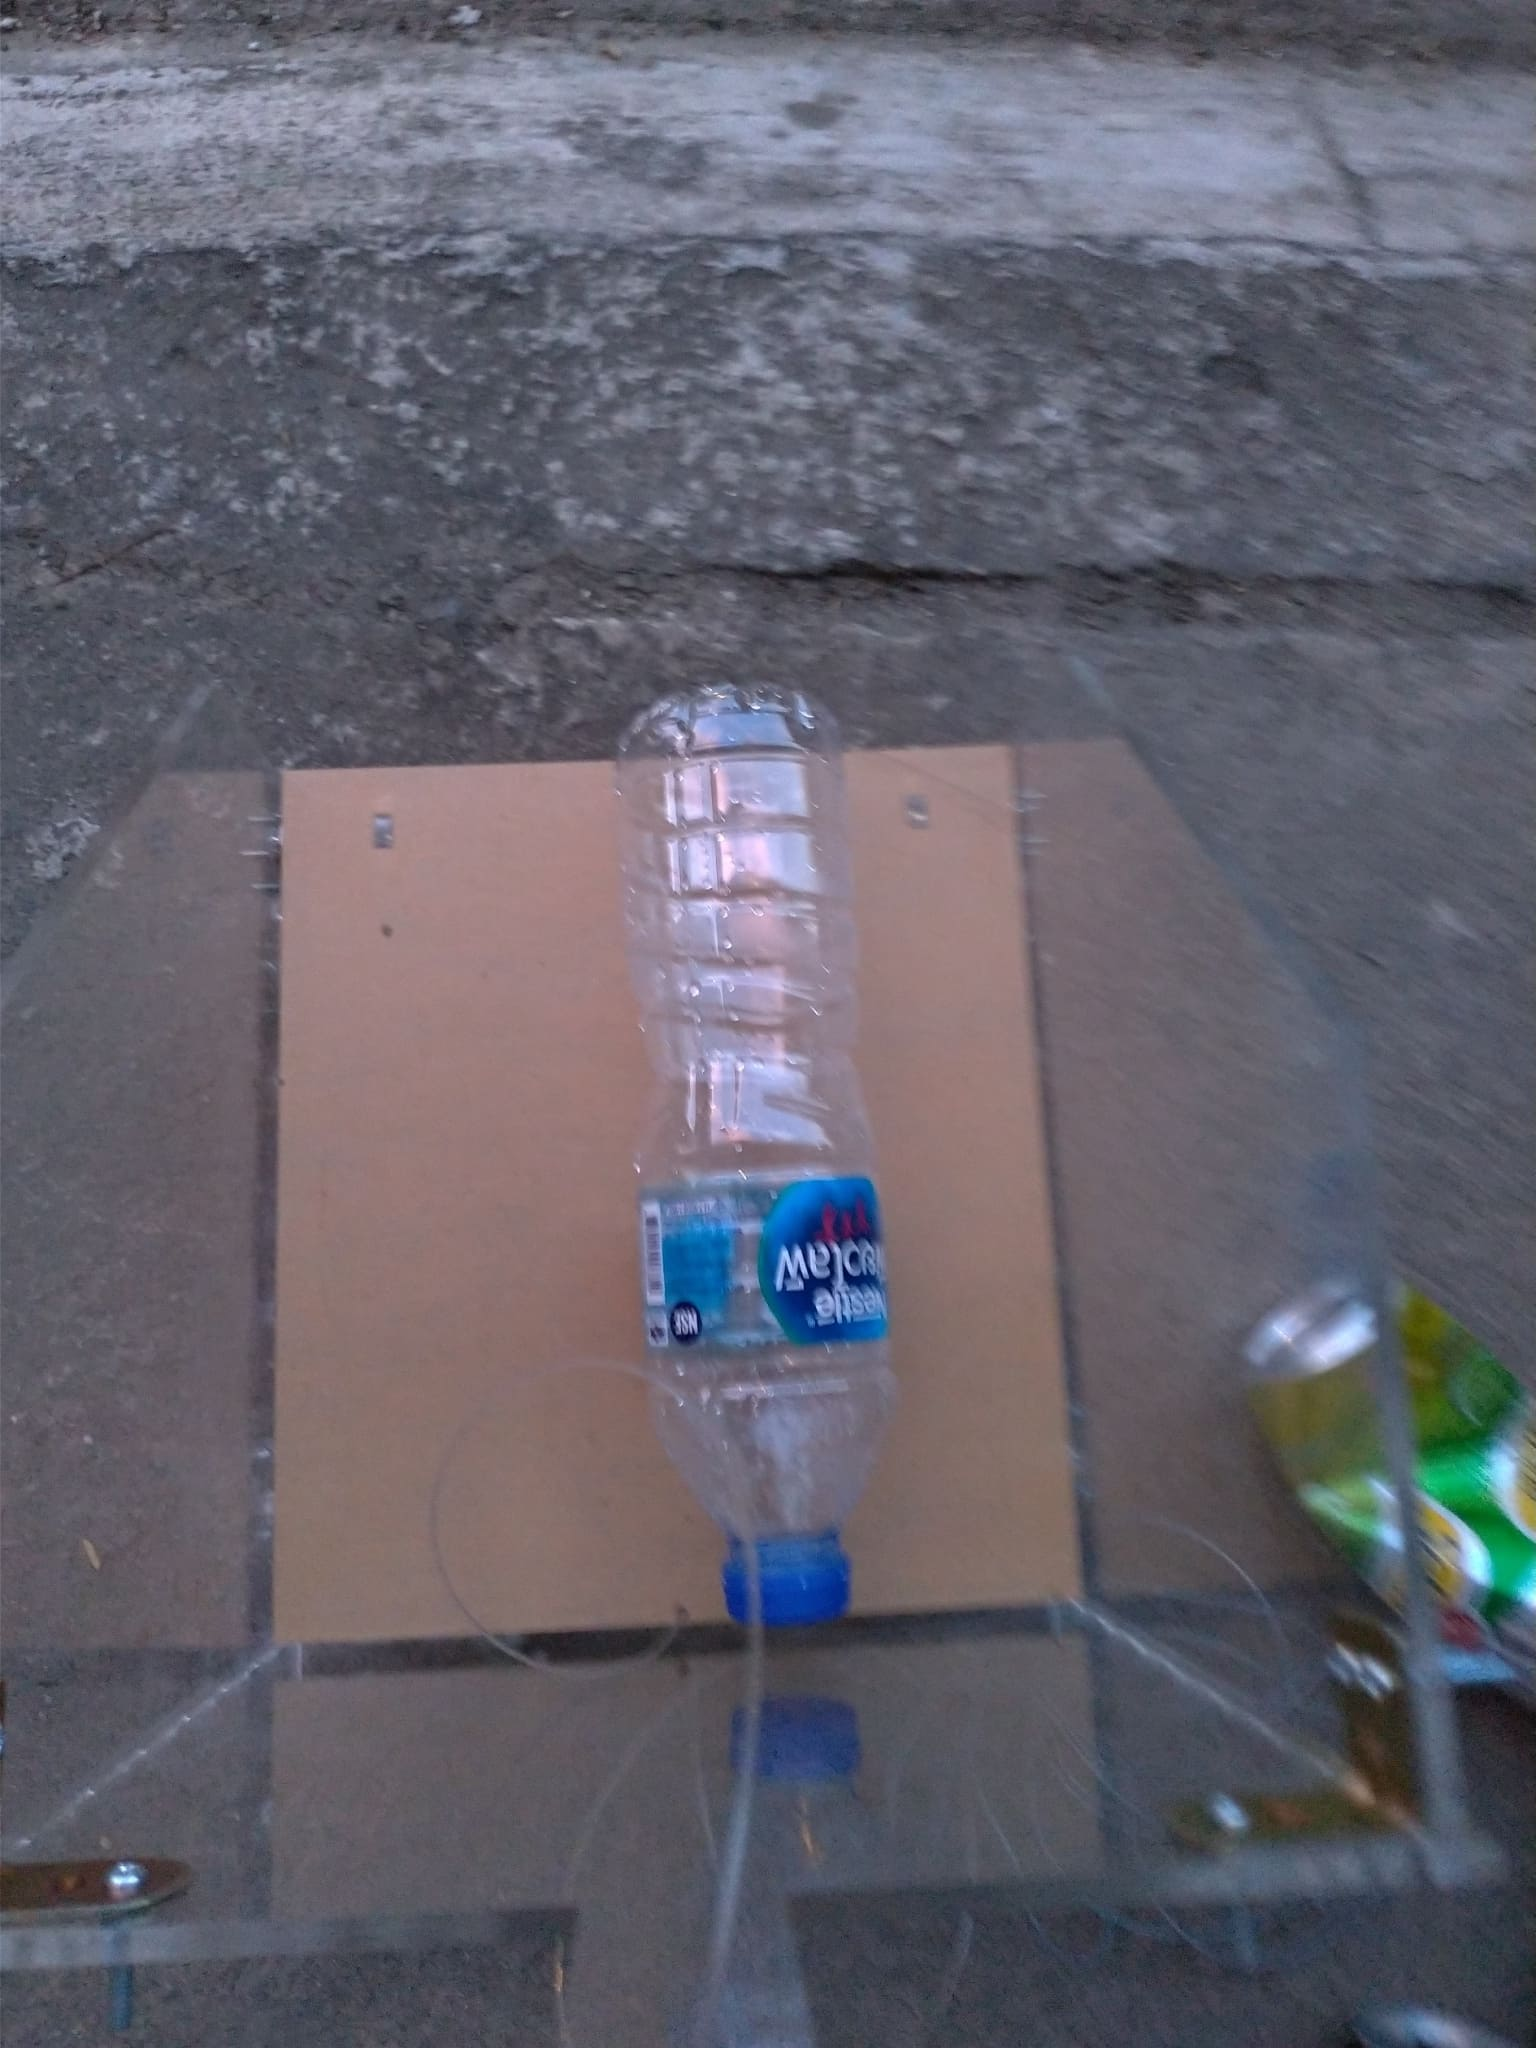AlCan: (1246, 1255, 1533, 1661)
PlasticBottle: (611, 671, 895, 1616)
